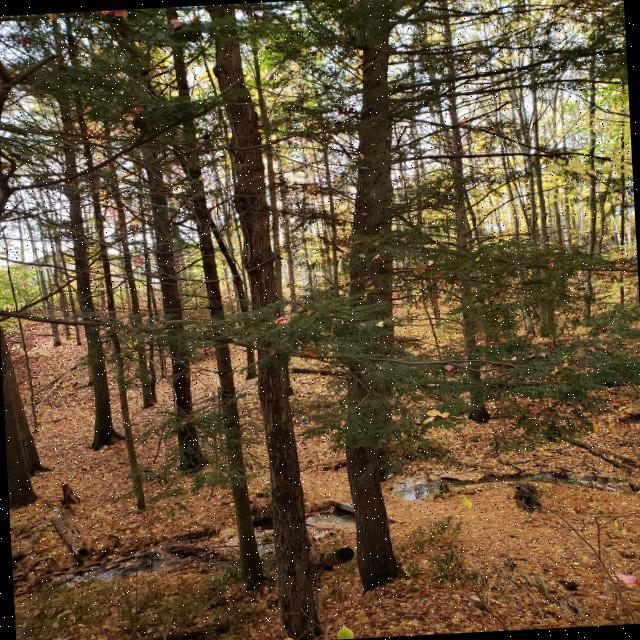fallen_object: (103, 527, 382, 640)
